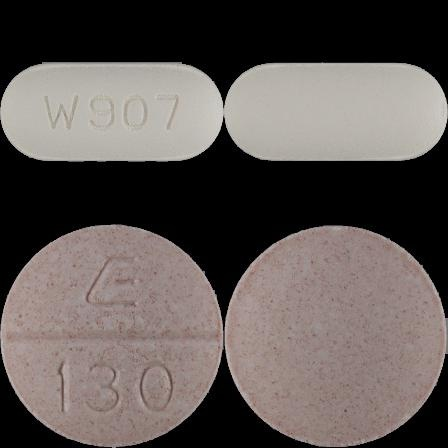54868-4350: (0, 0, 224, 224)
